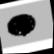correct: (2, 8, 44, 41)
